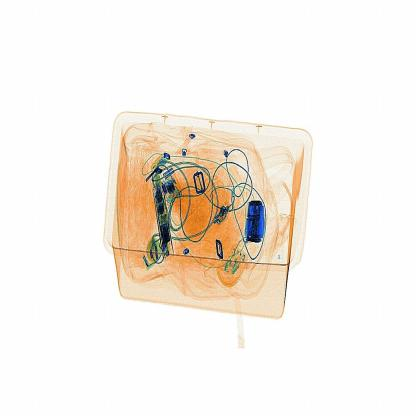scissors: (241, 196, 275, 250)
